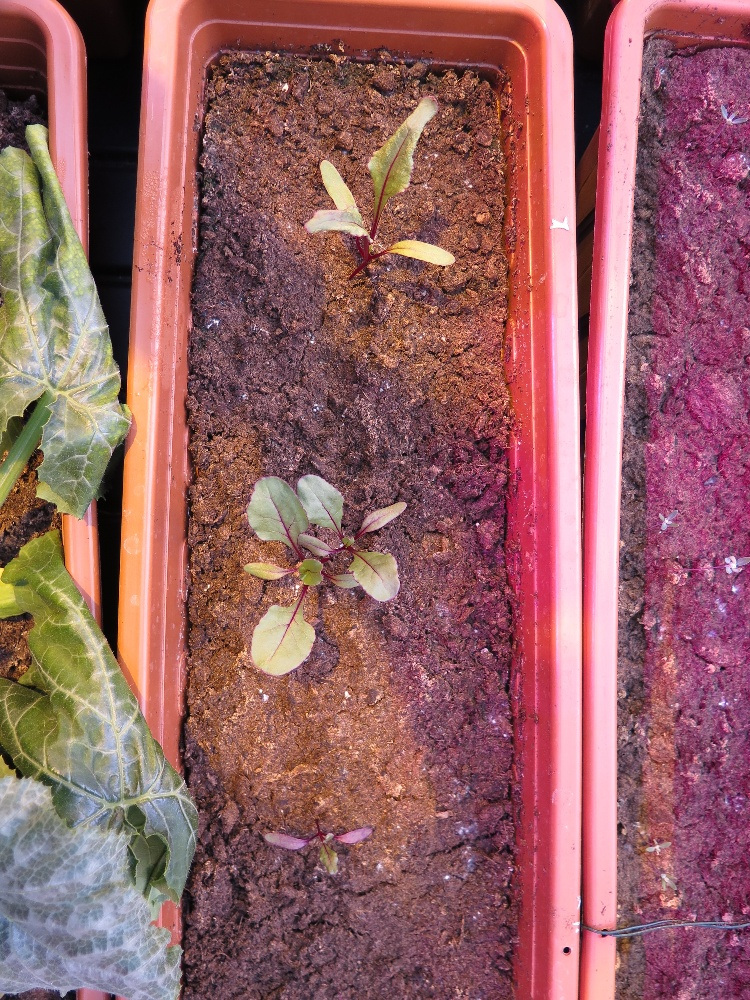weed: (720, 101, 748, 126), (644, 833, 672, 857), (657, 506, 680, 534), (660, 870, 678, 896)
